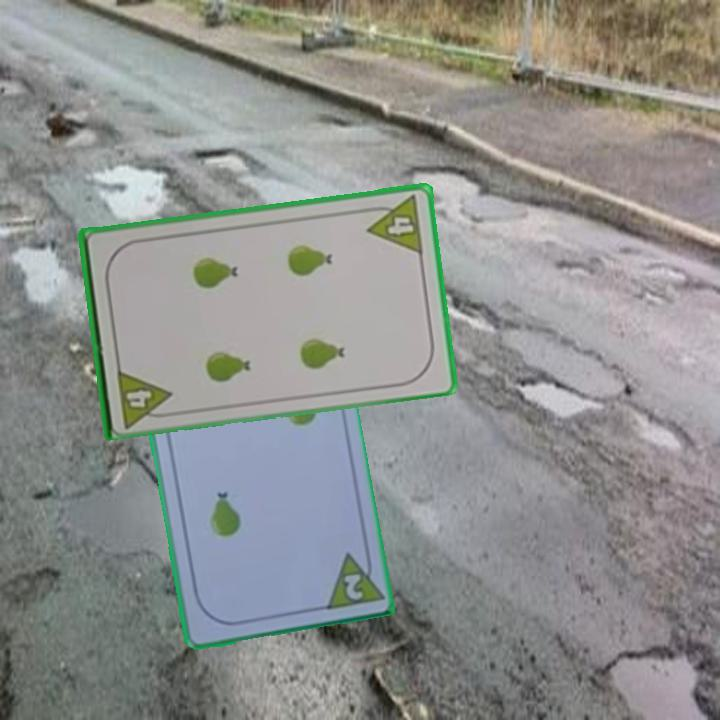2p: (339, 569, 366, 603)
4p: (361, 192, 426, 257), (113, 364, 176, 429)
